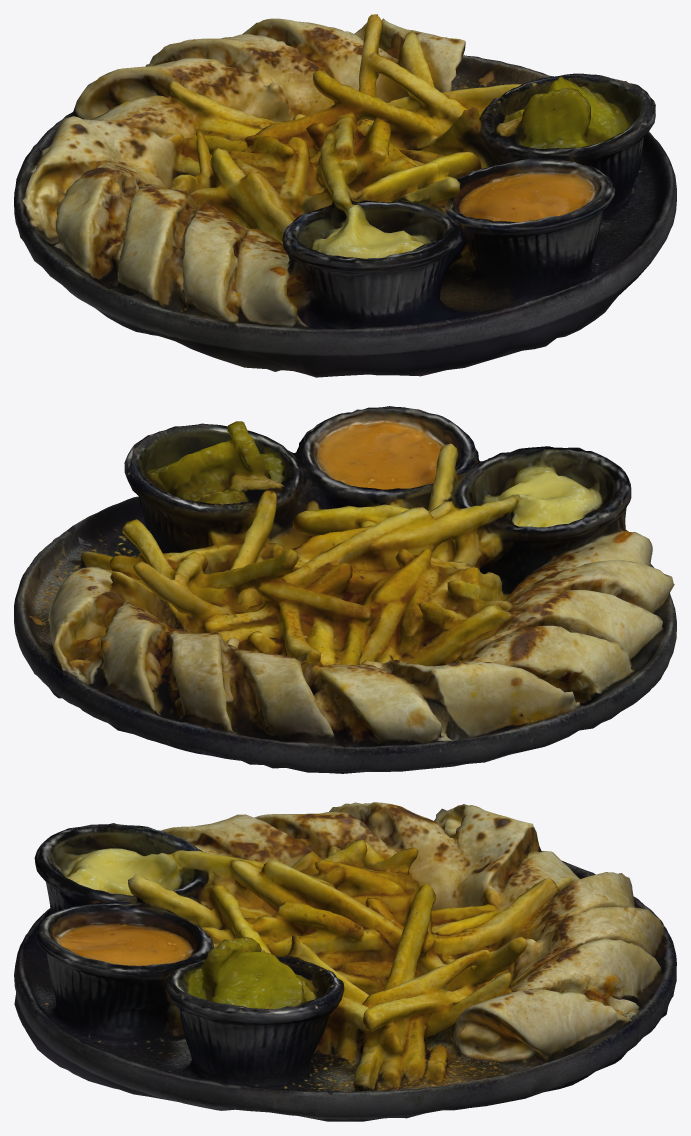
The model's file is chickenShawerma_1752057967757.glb.
The picture shows the model from 3 angles, top to bottom: view 1: azimuth 30°, elevation 25°; view 2: azimuth 150°, elevation 25°; view 3: azimuth 270°, elevation 25°; orthographic projection.
Parts seen in each view (by area): view 1: 3DModel_Custom; view 2: 3DModel_Custom; view 3: 3DModel_Custom.
Boxes of the visible parts, x1=… form: 3DModel_Custom: x1=14, y1=14, x2=676, y2=377; 3DModel_Custom: x1=14, y1=406, x2=676, y2=773; 3DModel_Custom: x1=14, y1=802, x2=676, y2=1121.
Size of the model in its own units: 0.2625 by 0.07 by 0.2634.
1 material, 1 textured.
